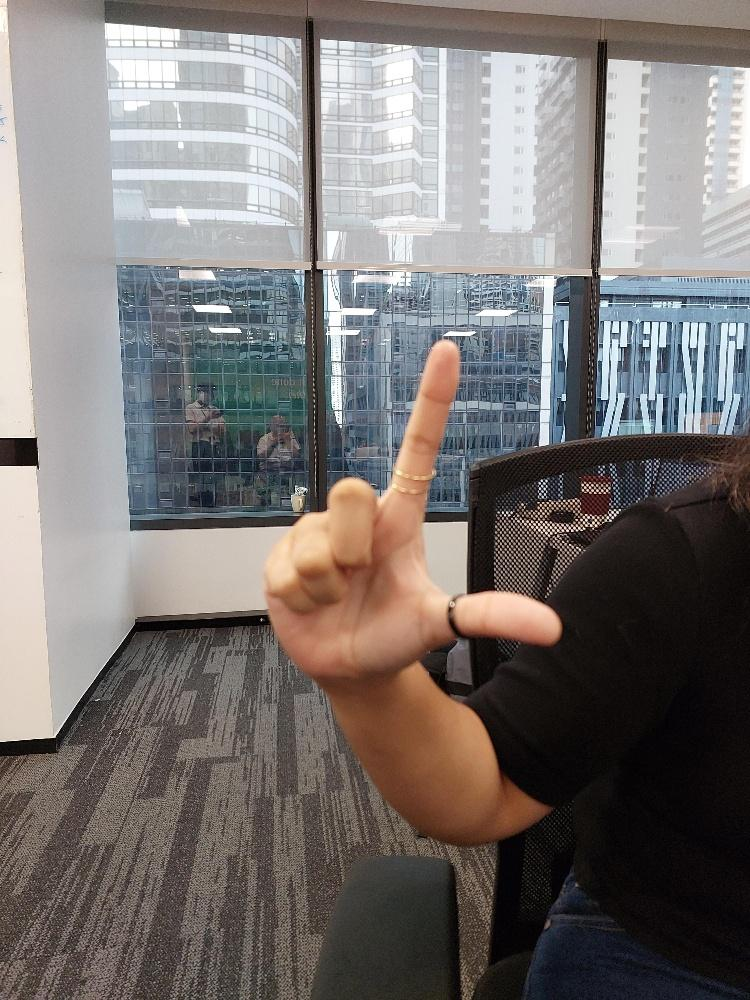l: (260, 335, 565, 690)
